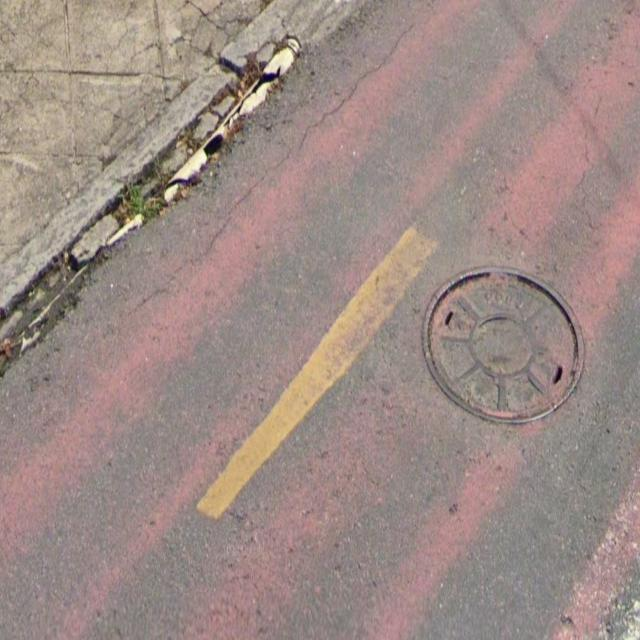Bueiro: (415, 257, 599, 445)
